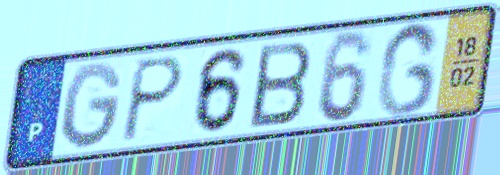6: (313, 27, 376, 126), (191, 46, 249, 136)
B: (247, 38, 315, 131)
G: (373, 18, 443, 119), (59, 59, 126, 153)
P: (117, 54, 188, 147)
